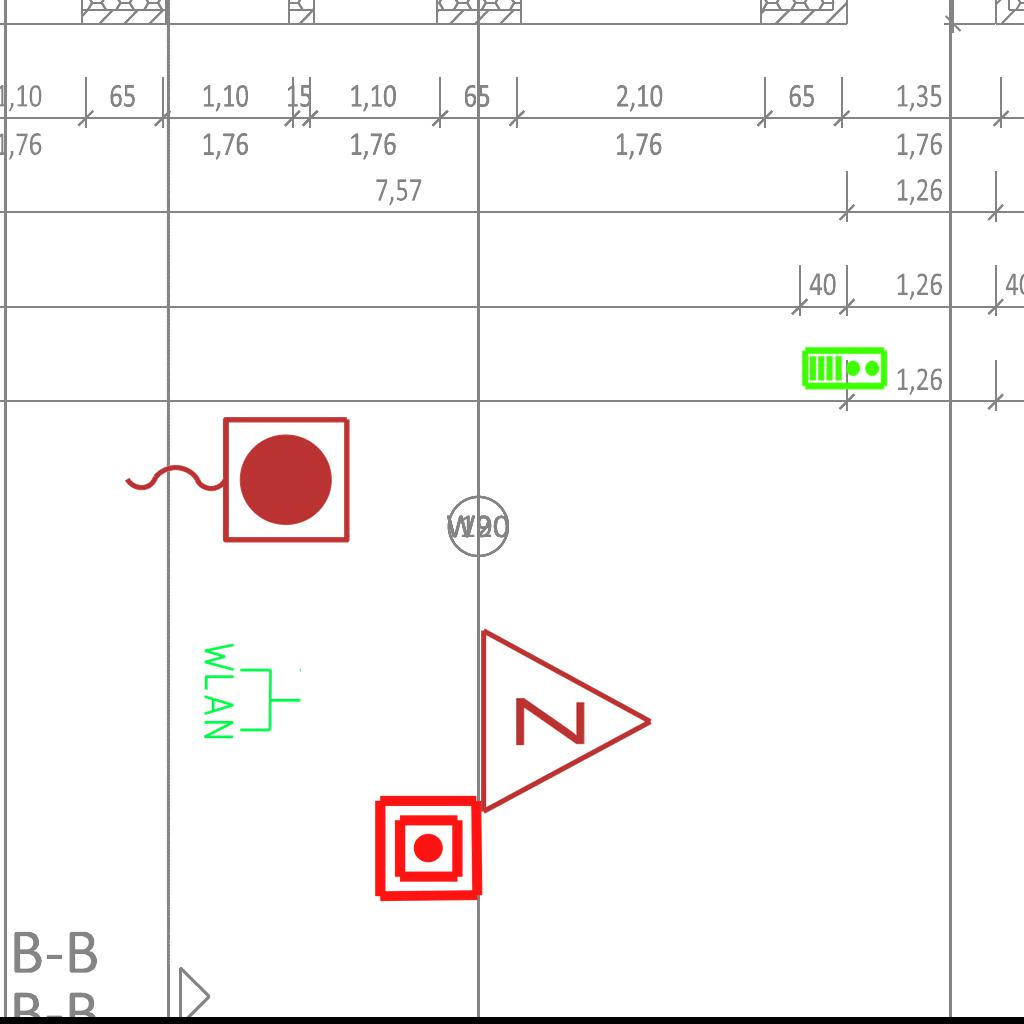Gegensprechanlage_mit_Video: (801, 344, 889, 391)
NAM-Nichtautomatischer_Melder: (372, 792, 485, 905)
WLAN: (200, 638, 304, 743)
Zimmersignalleuchte: (466, 621, 666, 817)
Zugtaster: (114, 406, 358, 550)
